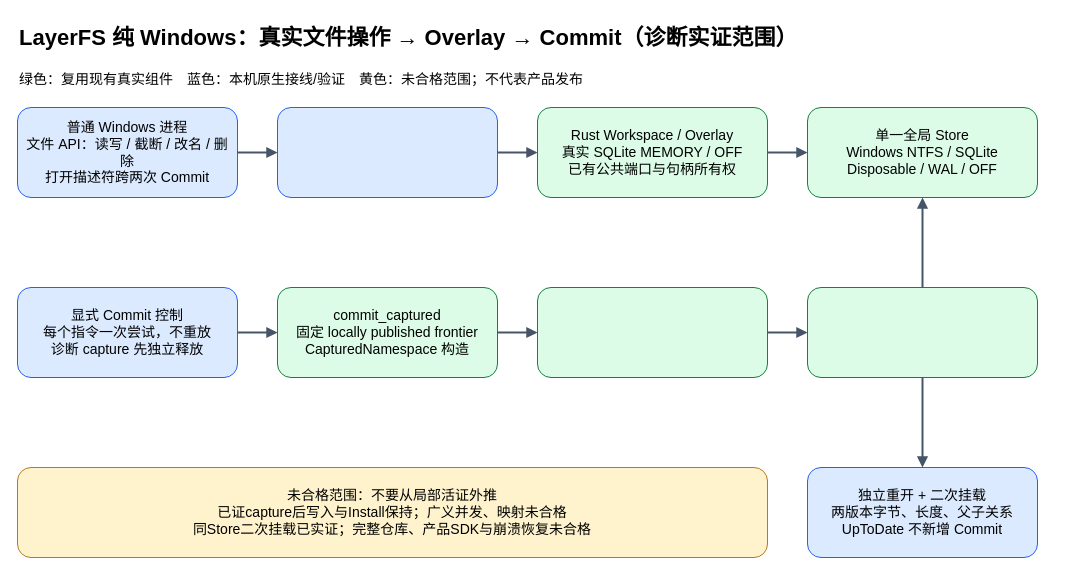
The diagram is 1065 pixels wide and 575 high, and some of its shapes have lost their labels. Each missing label, with the centre of its shape:
"Content → Storage Save 复用 canonical 构造与编码 Save::finish 完成对象闭合" goes at (652,332).
"History → 本地 Install 真实 Commit；via=Workspace 推进 base，保留打开句柄" goes at (922,332).
"WinFsp 原生回调 C++ 薄适配 + 窄 C ABI 无 C++ 文件字节后端" goes at (387,152).
